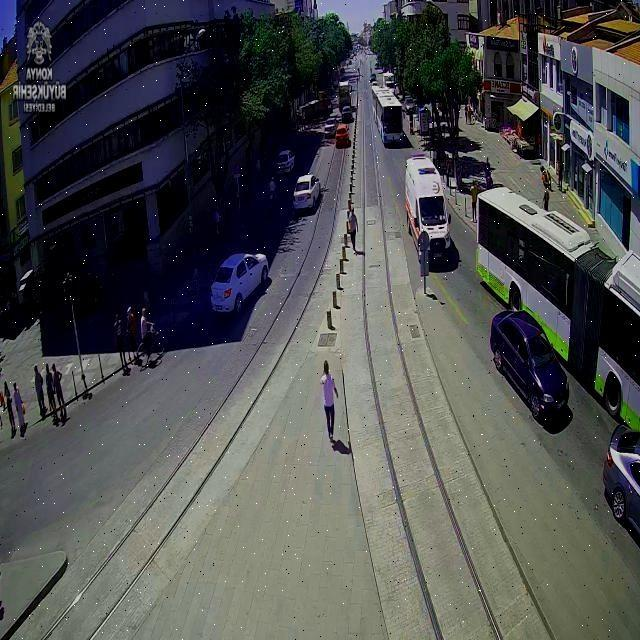Bus: (471, 178, 640, 432), (370, 84, 403, 144)
Car: (492, 308, 572, 422), (600, 423, 640, 539), (208, 252, 269, 316), (293, 175, 320, 210), (274, 149, 295, 174), (334, 121, 349, 145), (402, 98, 417, 114), (324, 118, 337, 136)
Cycle: (136, 324, 166, 368)
Truck: (338, 80, 352, 109), (382, 72, 396, 91)
Van: (402, 155, 453, 262)
